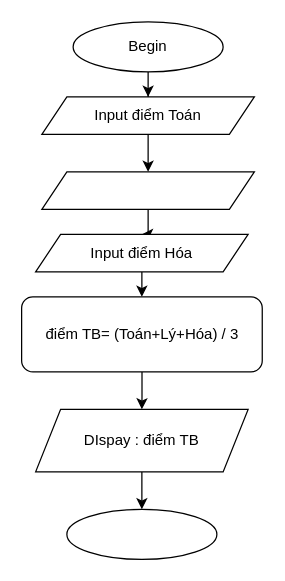
This 285x581 diagram has some shape labels left out. The centre of each missing label's shape, as x and y in pixels:
"END" goes at (141,533).
"Input điểm Lý" goes at (147,190).
